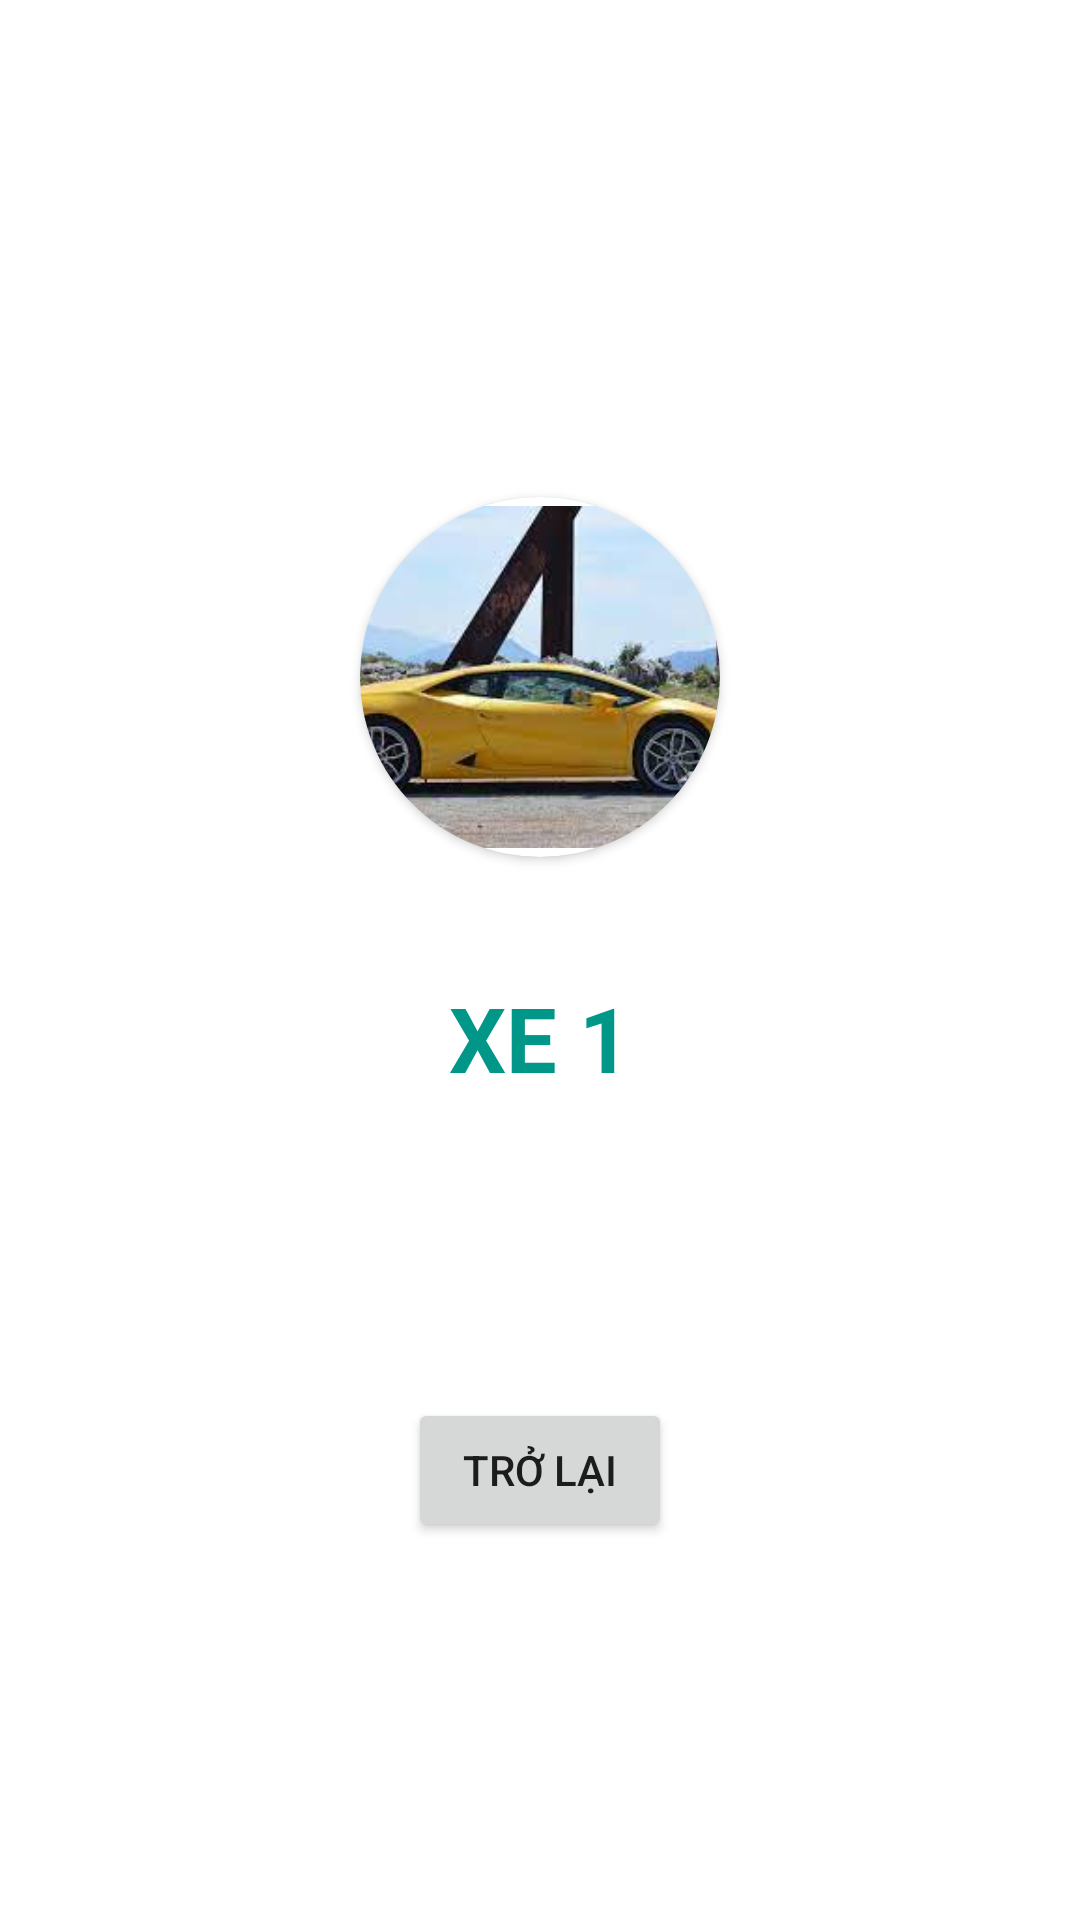

Icon bounding boxes for this 1080×1920 phone screenshot, format [x1=x1, y1=y1, x2=x2, y2=y2]:
oto: [x1=360, y1=506, x2=720, y2=857]
